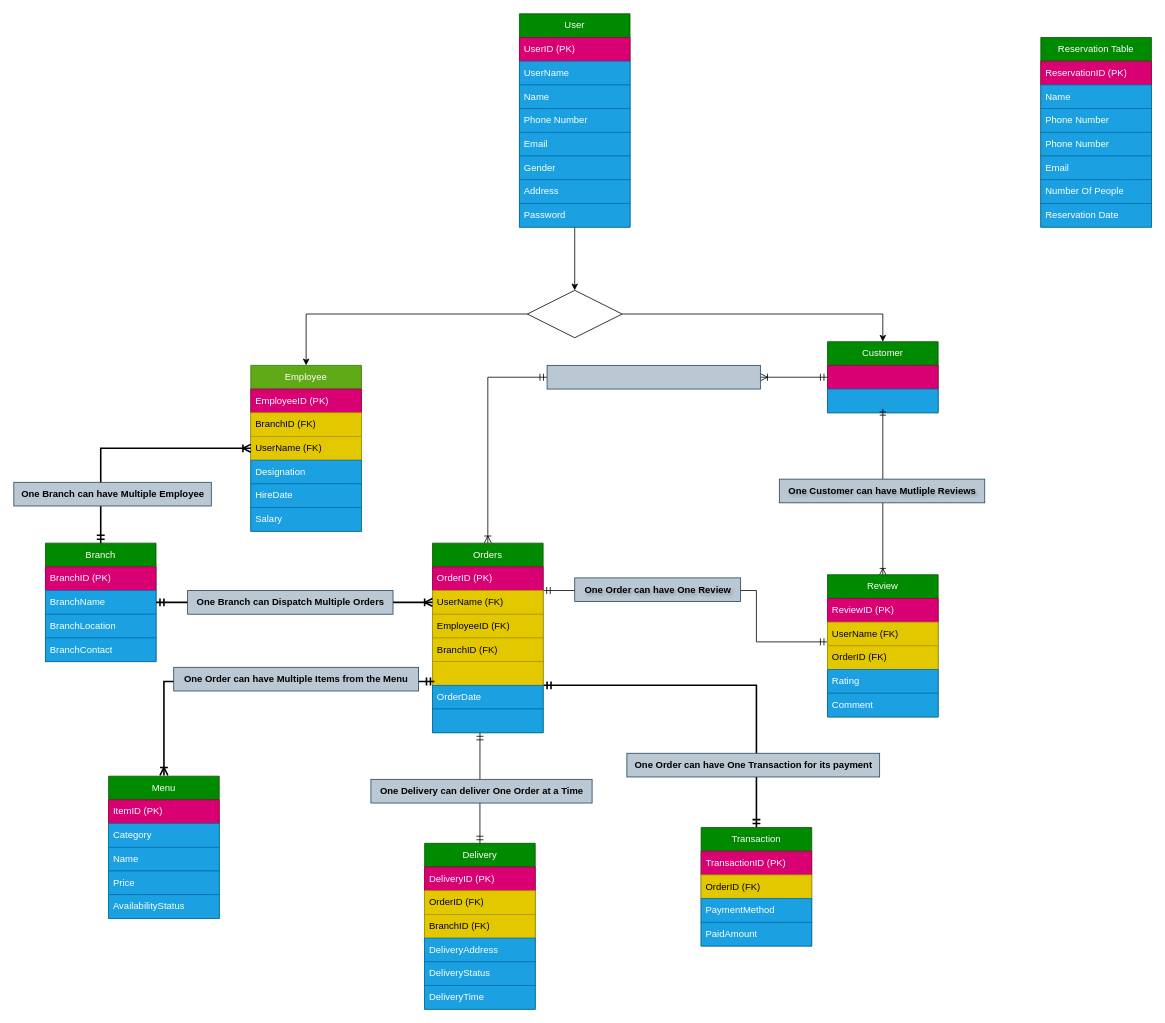
Some shapes in this 1165 by 1023 pixel diagram are drawn without their labels. The shapes that lost their labels are listed below. From the top down, each one's centre as x and y in pixels, then its label:
At (574,314): "Inheritance".
At (653,377): "One Customer have place Multipule Orders".
At (882,377): "UserName (PK)".
At (882,400): "NumberofOrders".
At (487,673): "TransactionID (FK)".
At (487,720): "OrderTime".
